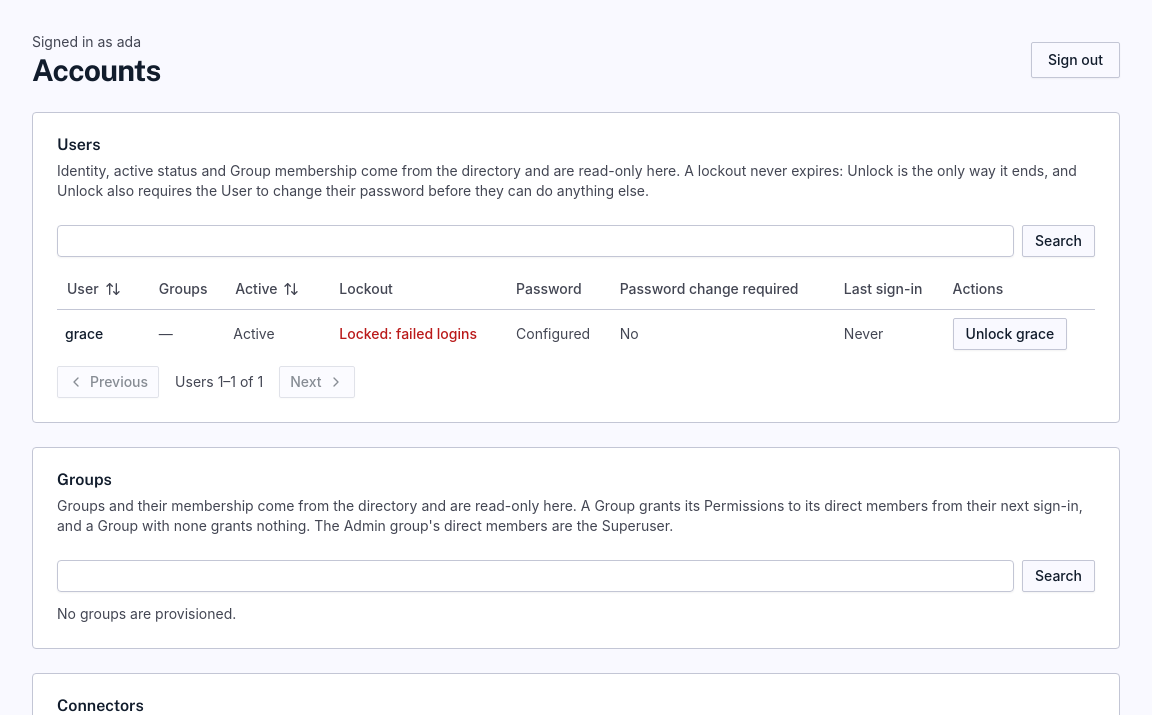
Scenario: Accounts › ends a lockout by the User's stable id and shows the change it now requires
This screenshot has width=1152, height=715.
Click the button "Unlock grace" at x=1010, y=334, box [953,318,1067,350]
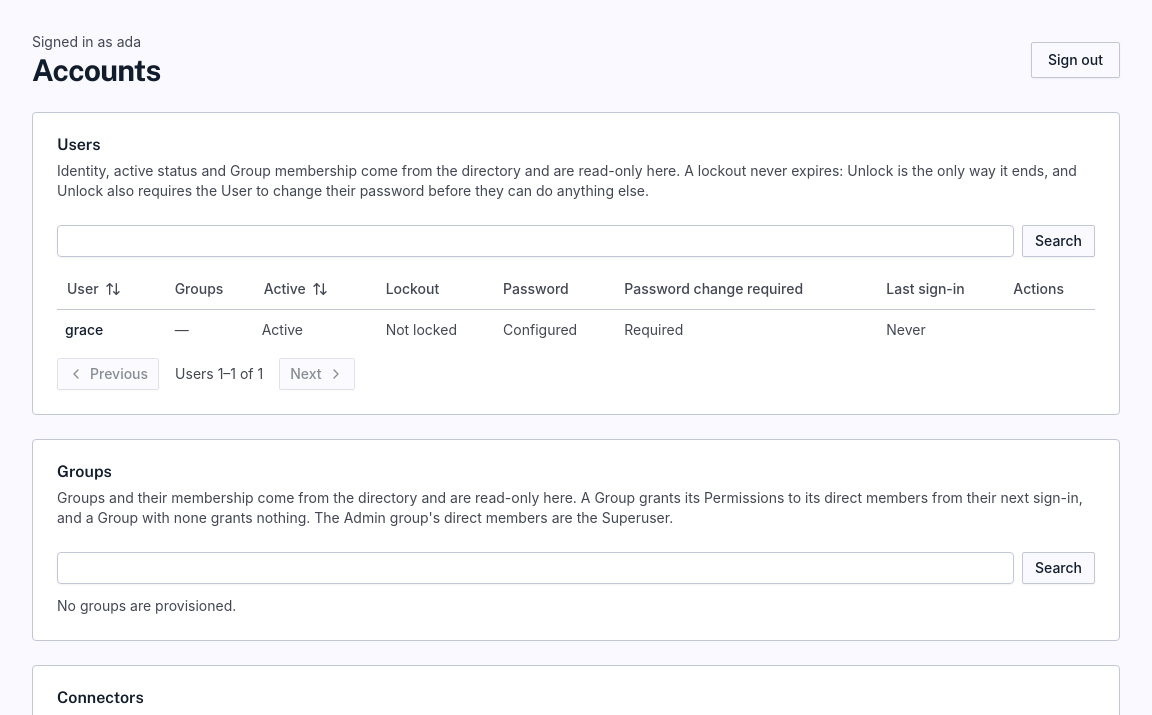
Result: the text "Not locked" is shown at [386,320,457,338]
Result: the text "Required" is shown at [616,310,878,350]
Result: the button "Unlock grace" is gone
